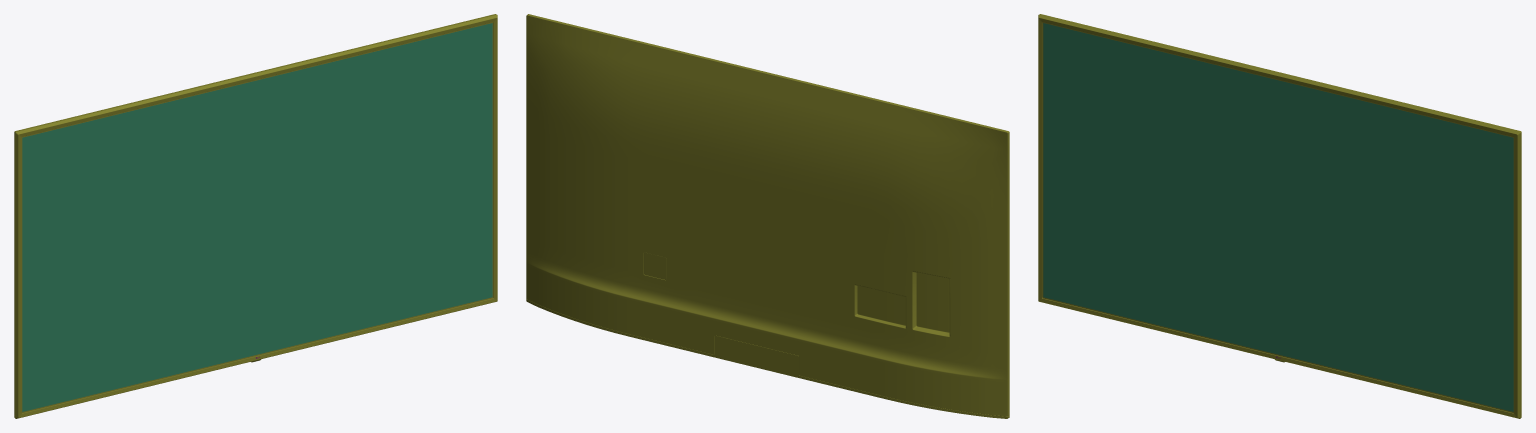
3 views of the same model, side by side, from view 1: azimuth 30°, elevation 25°; view 2: azimuth 150°, elevation 25°; view 3: azimuth 330°, elevation 25° (orthographic).
Parts seen in each view (by area): view 1: SM_TV_LG; view 2: SM_TV_LG; view 3: SM_TV_LG.
Boxes of the visible parts, x1,y1,x2,y2 form: SM_TV_LG: (14, 14, 497, 418); SM_TV_LG: (526, 14, 1009, 418); SM_TV_LG: (1038, 14, 1521, 418).
Bounding box in the file's own units: 196 × 112 × 9.27.
